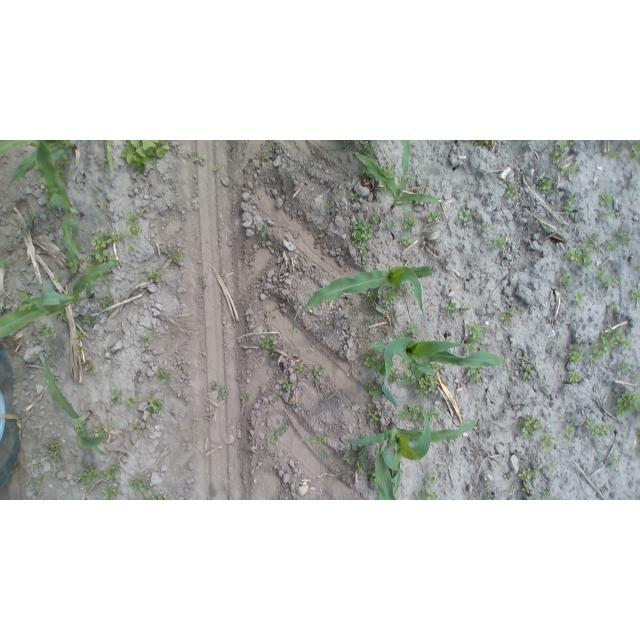Maize: (344, 409, 480, 496), (372, 338, 509, 407), (292, 267, 434, 333), (1, 262, 118, 337), (43, 357, 108, 456), (36, 140, 84, 264), (353, 152, 442, 209), (0, 141, 114, 185), (325, 141, 410, 178), (376, 434, 400, 500)
Weeds: (79, 467, 121, 482), (616, 391, 639, 415), (125, 153, 152, 170), (143, 141, 169, 158), (520, 418, 540, 438), (308, 438, 328, 457), (121, 141, 140, 158), (560, 267, 574, 287), (468, 324, 485, 340), (565, 164, 580, 181), (601, 334, 616, 351), (275, 423, 290, 440), (415, 489, 438, 500), (617, 228, 631, 246), (383, 288, 398, 304), (565, 418, 577, 438), (519, 468, 534, 483), (554, 144, 570, 158), (92, 235, 107, 249), (343, 451, 357, 466), (103, 486, 118, 500), (467, 368, 481, 382), (403, 371, 417, 385), (541, 178, 555, 192), (580, 239, 593, 254), (426, 377, 437, 394), (105, 229, 119, 242), (601, 190, 612, 206), (407, 406, 420, 419), (542, 436, 555, 449), (601, 240, 615, 252), (400, 236, 415, 247), (615, 328, 626, 343), (369, 382, 379, 398), (26, 212, 38, 225), (96, 250, 109, 262), (573, 291, 586, 303), (571, 248, 582, 262), (630, 143, 640, 158), (408, 324, 420, 336), (558, 140, 574, 149), (405, 216, 416, 229), (567, 351, 581, 361), (522, 363, 532, 377), (397, 411, 412, 420), (50, 443, 59, 458), (149, 398, 160, 410), (138, 481, 150, 492), (127, 223, 138, 235), (259, 225, 270, 237), (582, 255, 593, 267), (424, 472, 436, 483), (269, 334, 280, 346), (630, 288, 640, 301), (597, 268, 607, 281), (49, 226, 58, 240), (420, 378, 431, 389), (148, 271, 159, 282), (459, 210, 470, 221), (594, 348, 605, 359), (258, 338, 270, 348), (168, 252, 181, 261), (352, 230, 361, 243), (284, 380, 293, 393), (369, 411, 379, 422), (68, 261, 78, 272), (127, 212, 138, 222), (507, 185, 517, 196), (517, 353, 528, 363), (569, 371, 579, 382), (601, 424, 611, 435), (585, 418, 596, 428), (533, 466, 543, 477), (356, 463, 366, 474), (521, 140, 532, 150), (44, 329, 56, 338), (447, 302, 456, 314), (241, 392, 251, 402), (427, 212, 437, 222), (491, 241, 500, 252), (612, 277, 621, 288), (430, 409, 439, 420), (610, 453, 619, 464), (113, 388, 122, 398), (84, 314, 93, 324), (100, 297, 109, 307), (196, 157, 206, 166), (354, 219, 363, 229), (364, 358, 374, 367), (610, 304, 620, 313), (620, 361, 629, 371), (593, 426, 602, 436), (76, 329, 84, 340), (88, 253, 96, 264), (482, 222, 490, 233), (385, 165, 396, 173), (313, 366, 321, 377), (567, 195, 575, 206), (565, 205, 573, 216), (351, 192, 360, 201), (590, 355, 599, 364), (267, 437, 276, 446), (361, 231, 371, 239), (362, 224, 372, 232), (210, 380, 218, 390), (477, 140, 490, 146), (523, 488, 534, 495), (372, 351, 379, 362), (468, 344, 476, 353), (162, 374, 170, 383), (21, 293, 29, 302), (37, 324, 46, 332), (358, 244, 366, 253), (364, 142, 373, 150), (501, 314, 510, 322), (600, 281, 608, 290), (547, 462, 556, 470), (126, 398, 136, 405), (151, 493, 161, 500), (221, 389, 228, 399), (499, 236, 506, 246), (131, 478, 139, 486), (84, 363, 92, 371), (540, 490, 548, 498), (358, 452, 366, 460), (394, 375, 402, 382), (93, 429, 101, 436), (60, 313, 67, 321), (507, 308, 514, 316), (462, 304, 470, 311), (415, 389, 424, 395), (140, 336, 149, 342), (60, 160, 69, 166), (578, 347, 585, 354), (1, 257, 7, 265), (373, 214, 379, 222), (361, 258, 369, 264), (295, 366, 301, 374), (605, 327, 613, 333), (626, 338, 632, 346), (381, 424, 387, 432), (133, 422, 139, 429), (261, 154, 268, 160), (213, 165, 219, 172), (489, 493, 496, 499), (636, 427, 640, 437), (503, 474, 511, 479), (54, 275, 59, 282), (437, 210, 441, 218), (561, 294, 567, 299), (158, 371, 163, 376)
